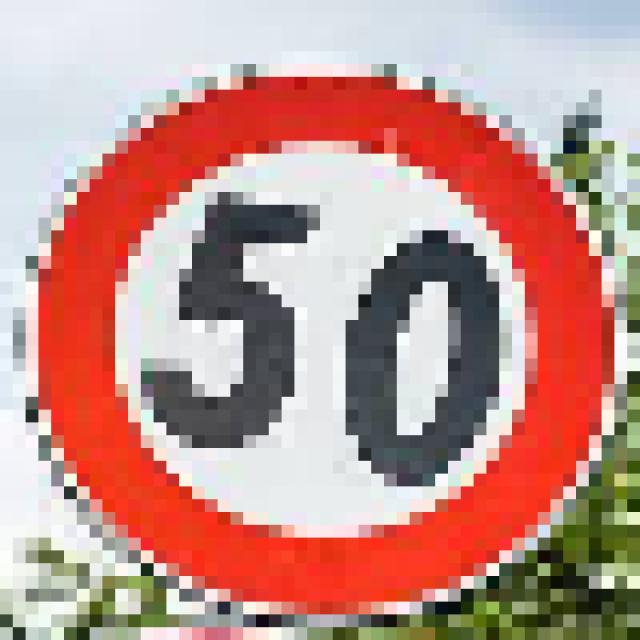Limite-50: (28, 67, 614, 620)
